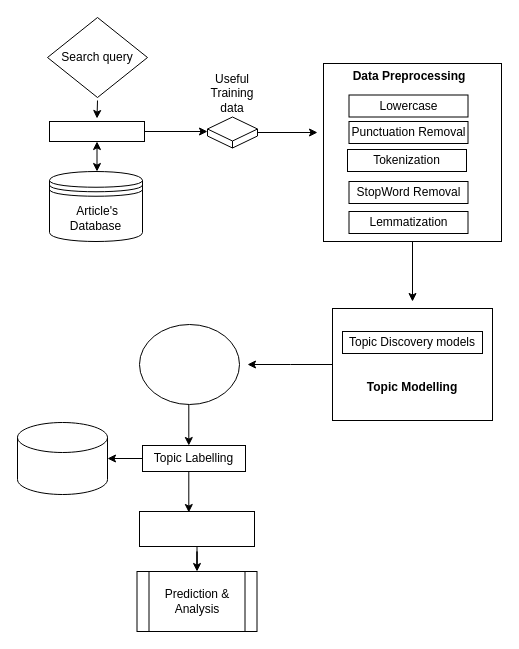
Some shapes in this 519 by 649 pixel diagram are drawn without their labels. The centre of each missing label's shape, as x and y in pixels:
Crawling: (96,131)
Domain Knowledge: (62,458)
Forecasting Model: (196,528)
Word Clusters - Topics: (189,364)
